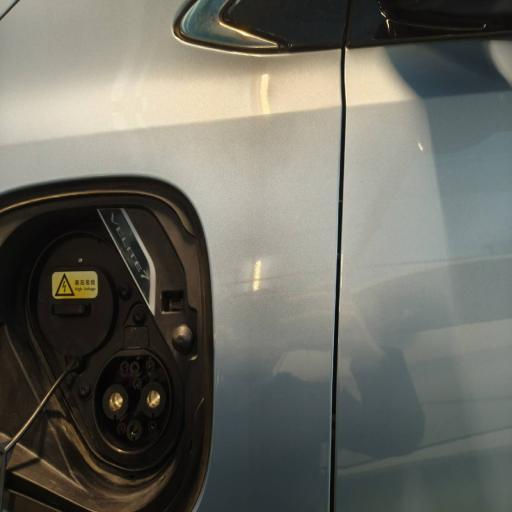DC_charging_port: (90, 346, 173, 457)
DC_hole: (102, 383, 130, 421), (139, 382, 167, 418)
PE: (127, 420, 142, 442)
